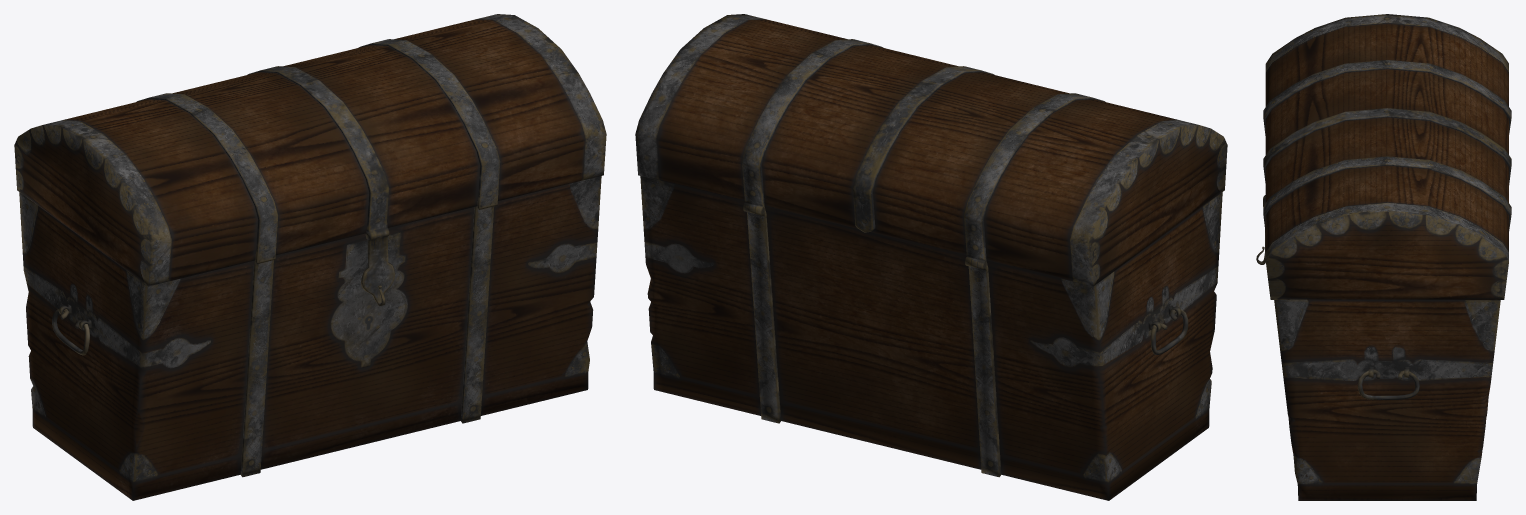
The picture shows the model from 3 angles, left to right: view 1: azimuth 30°, elevation 25°; view 2: azimuth 150°, elevation 25°; view 3: azimuth 270°, elevation 25°; orthographic projection. The views are drawn at different scales.
Visible parts, largest first — view 1: trunk_low, strapsTopSides_low, strapsTopMiddle_low; view 2: trunk_low, strapsTopSides_low, strapsTopMiddle_low; view 3: trunk_low, strapsTopSides_low, strapsTopMiddle_low, handle.
Part boxes in pixels (x1,y1,x2,y2): trunk_low: (14,14,606,500); strapsTopSides_low: (136,39,500,477); strapsTopMiddle_low: (247,66,395,306); trunk_low: (635,14,1227,500); strapsTopSides_low: (741,39,1105,477); strapsTopMiddle_low: (852,66,994,232); trunk_low: (1265,14,1508,500); strapsTopSides_low: (1263,60,1511,232); strapsTopMiddle_low: (1256,108,1511,264); handle: (1357,369,1419,399).
Size of the model in its own units: 1.53 by 0.9913 by 0.7845.
1 material, 1 textured.
